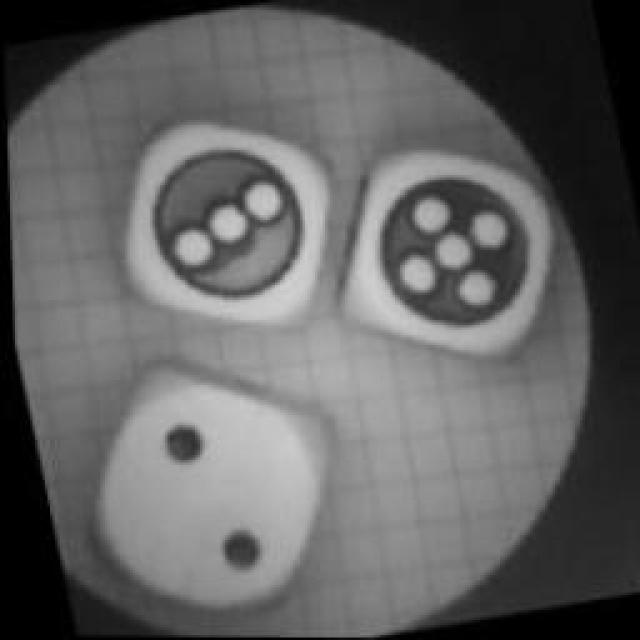dice_2: (62, 348, 362, 638)
dice_5: (88, 91, 358, 351), (334, 138, 574, 372)
